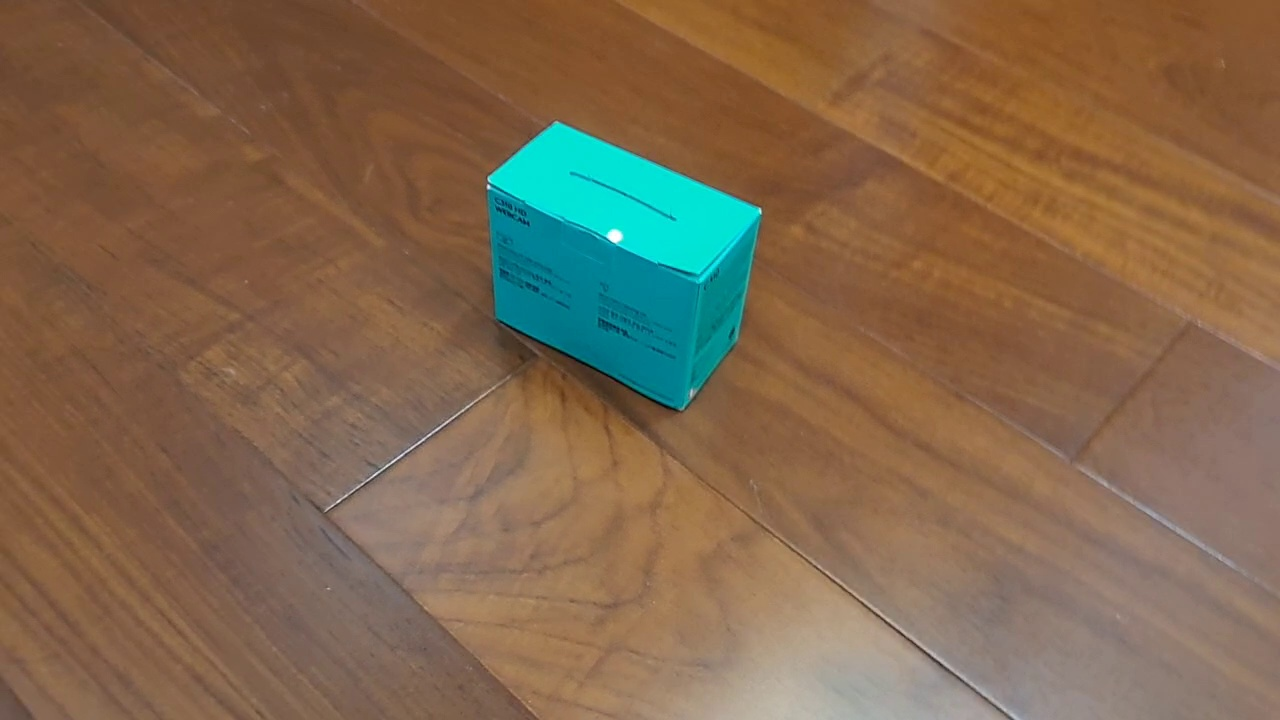webcam: (485, 119, 764, 414)
